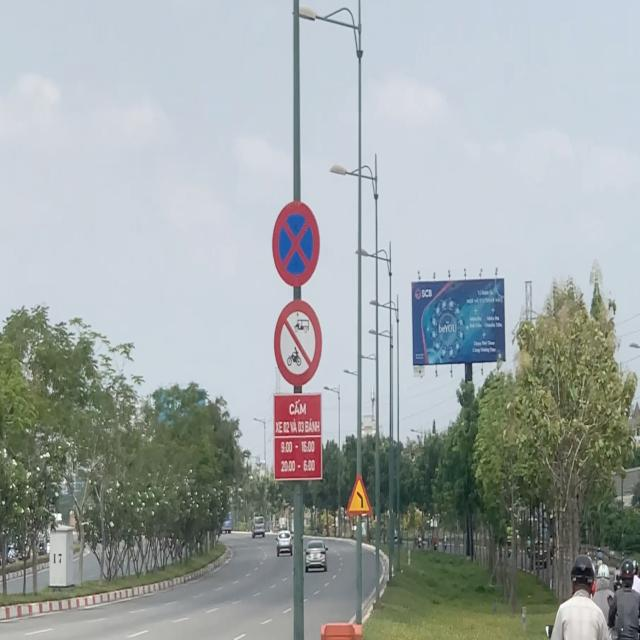Cam con lai: (274, 300, 322, 387)
Cam dung va do: (272, 200, 320, 288)
Nguy hiem: (346, 474, 372, 515)
